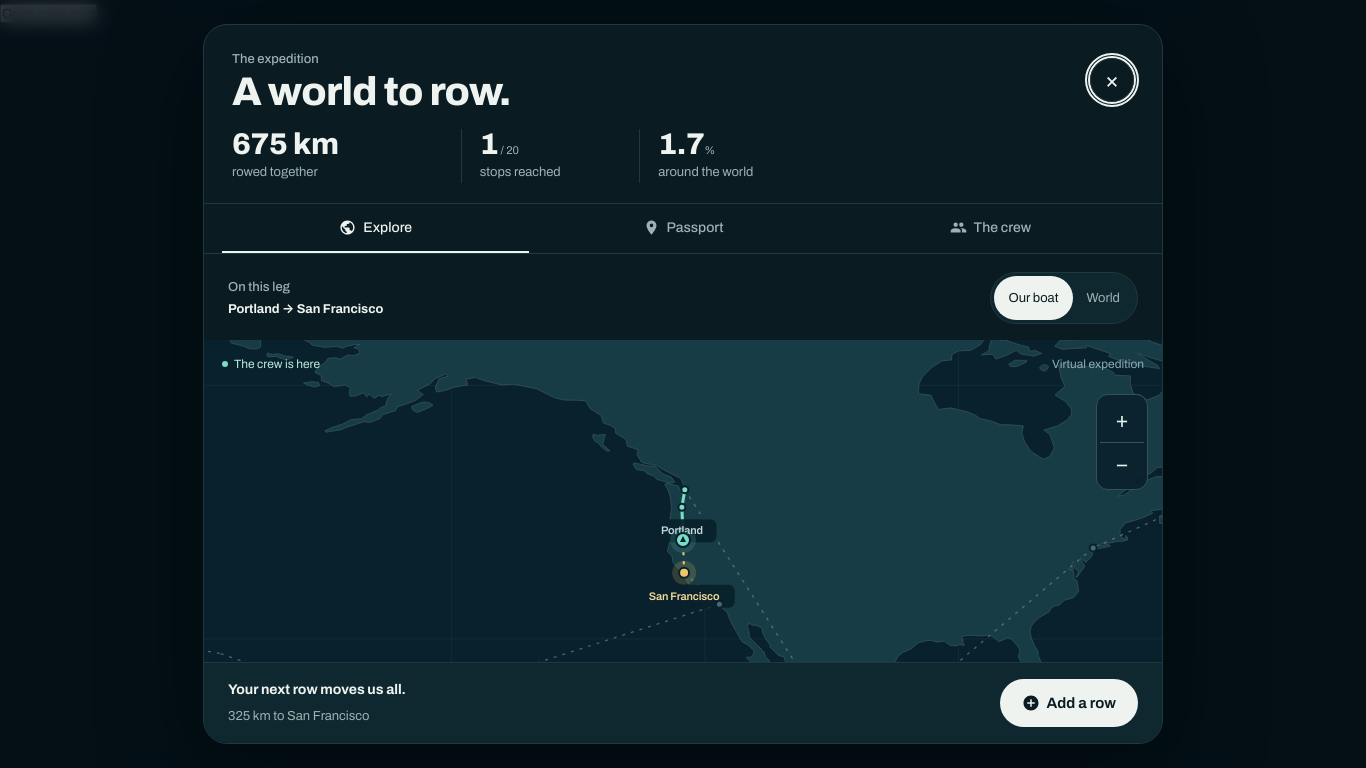
it: crew recognition uses map IDs, valid lifetime distances, and a consistent contribution denominator
The width and height of the screenshot is (1366, 768).
Click the button "The crew": (990, 228) [837,204,1144,253]
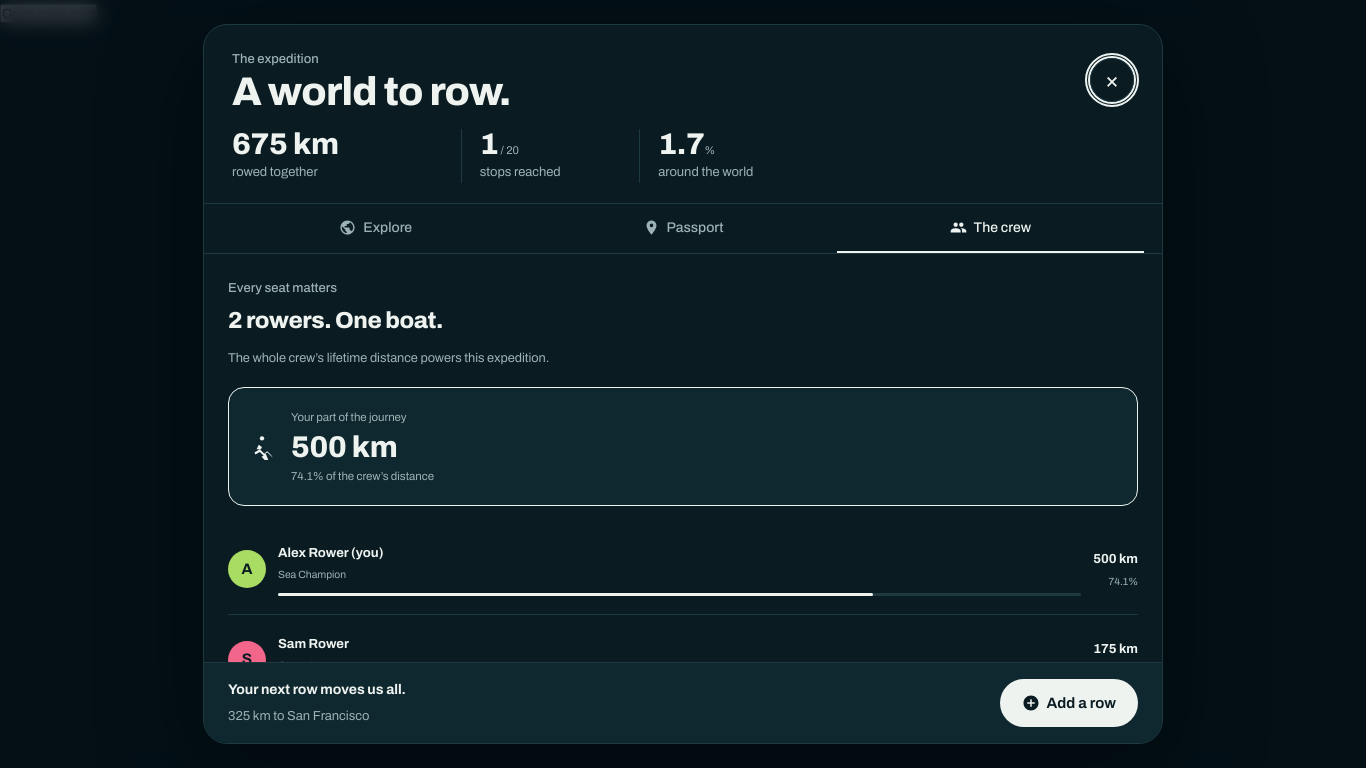
expect the number of elements with class "exp-member" is 2: met
expect the element with class "exp-member" shows "Alex Rower (you)": met, box [228,524,1138,615]
expect the element with class "exp-own-share" shows "74.1%": met, box [228,387,1138,506]
